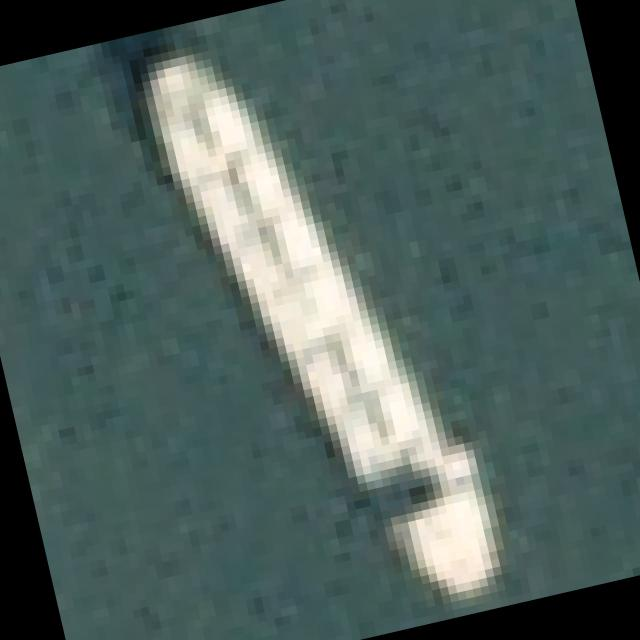ship: (86, 0, 602, 640)
